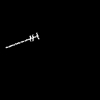treble_crochet: (6, 34, 38, 47)
